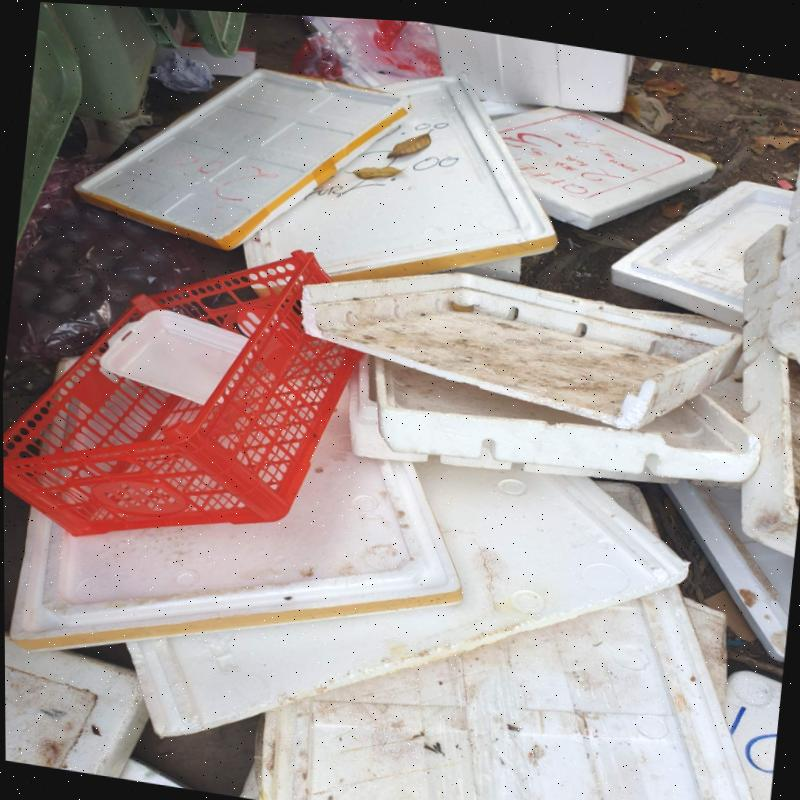styrofoam containers: (127, 464, 689, 739), (8, 391, 464, 652), (271, 587, 753, 800), (299, 272, 742, 429), (243, 76, 559, 283), (72, 68, 410, 251), (372, 357, 761, 482), (610, 181, 793, 325), (741, 225, 800, 559), (99, 309, 248, 405), (768, 159, 800, 366)
